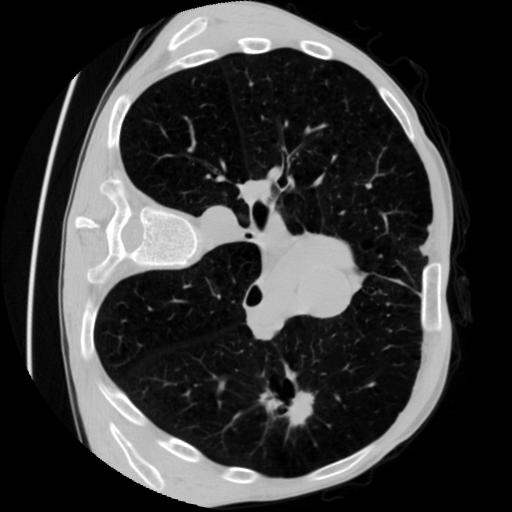nodule: (264, 383, 314, 433)
